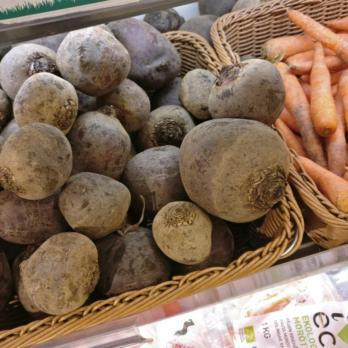Carrot: (286, 9, 348, 192)
beetroot: (2, 49, 94, 316), (92, 27, 181, 269), (178, 60, 280, 223)
